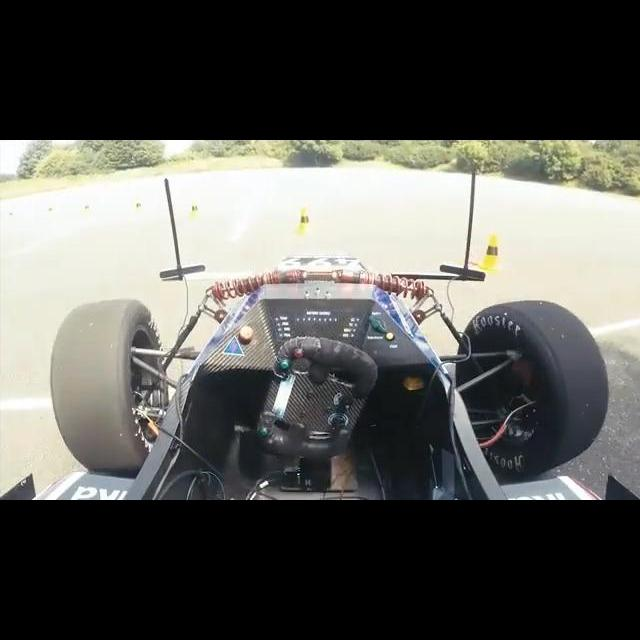Safety Cone: (476, 235, 508, 267), (290, 206, 319, 229), (186, 199, 210, 217), (78, 200, 106, 213), (134, 192, 143, 226)
vehicle: (0, 175, 640, 500)
